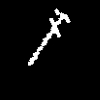double_crochet: (28, 9, 69, 64)
